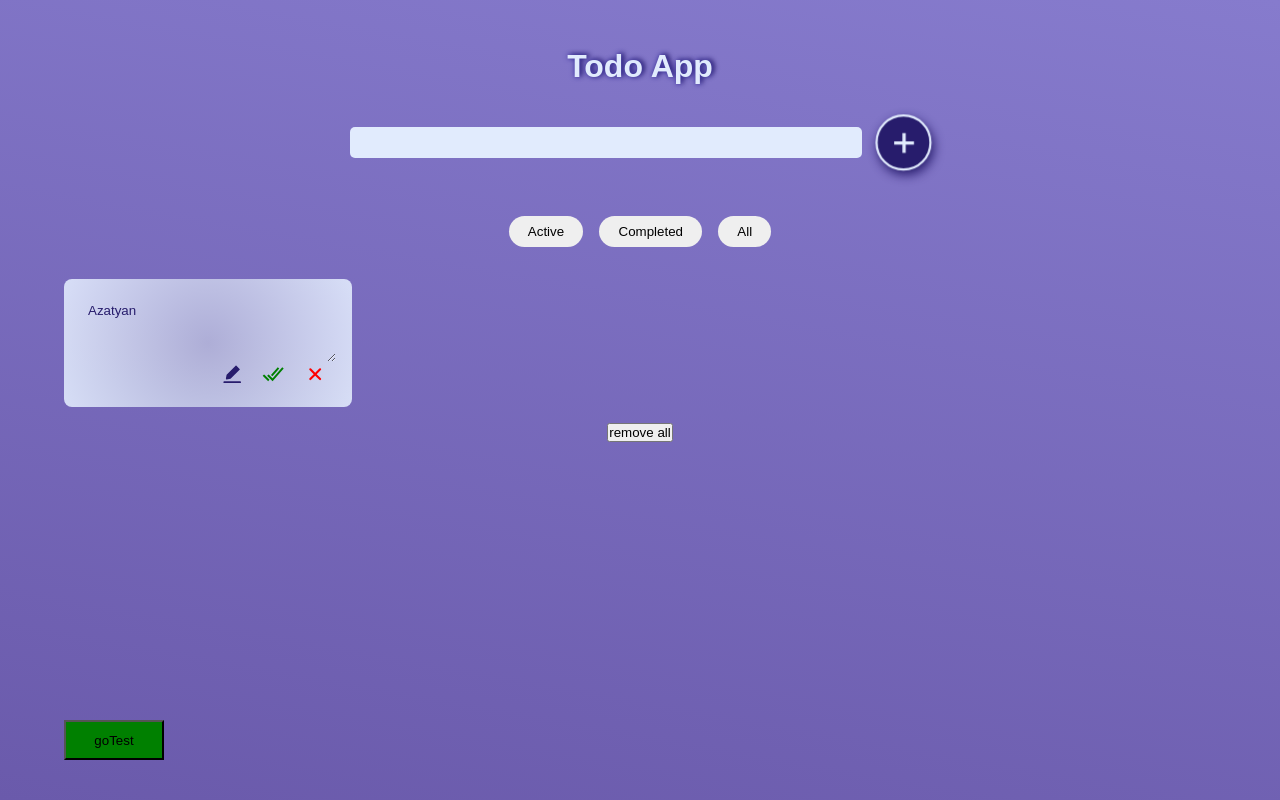
adding two item › add new item and check all length
Type "Heghine" into the element with class "addTodos" at (641, 142), box [350,114,932,170]
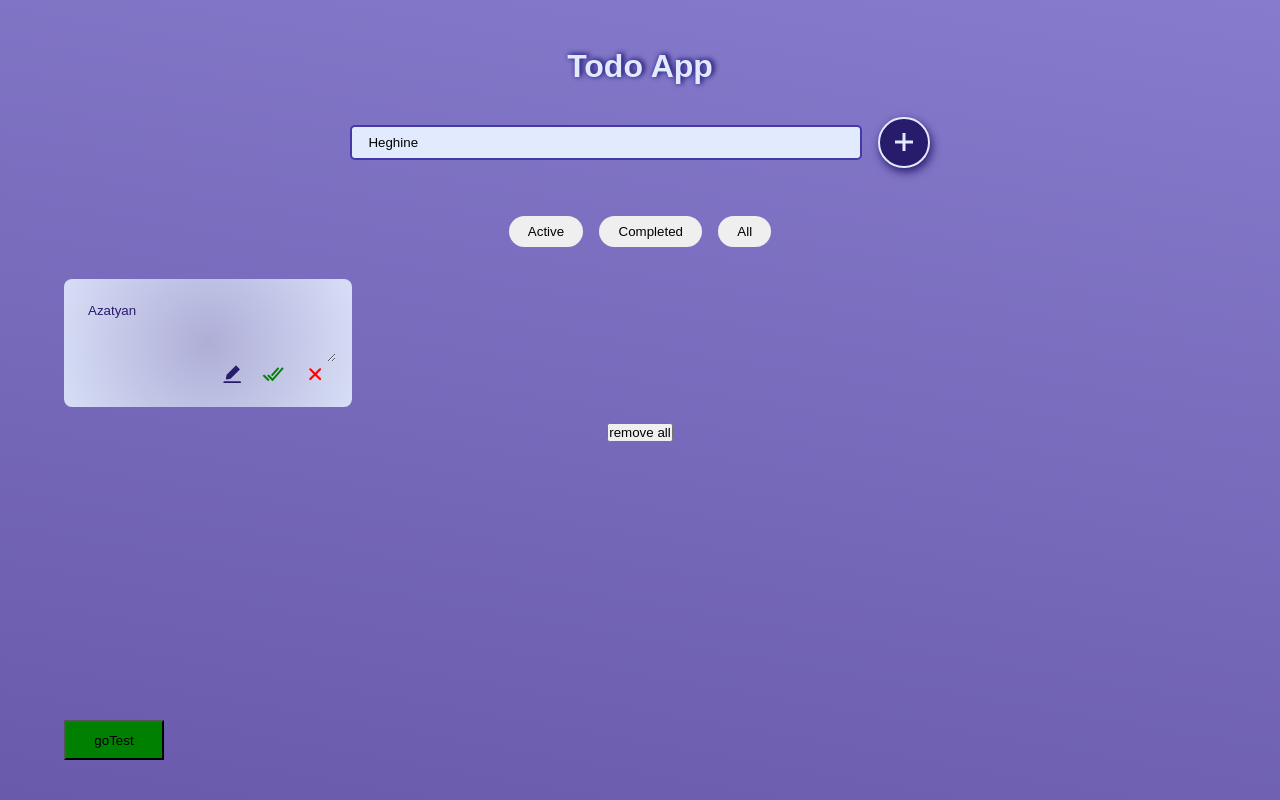
Click the 1st button at (904, 143), box [878,117,929,168]
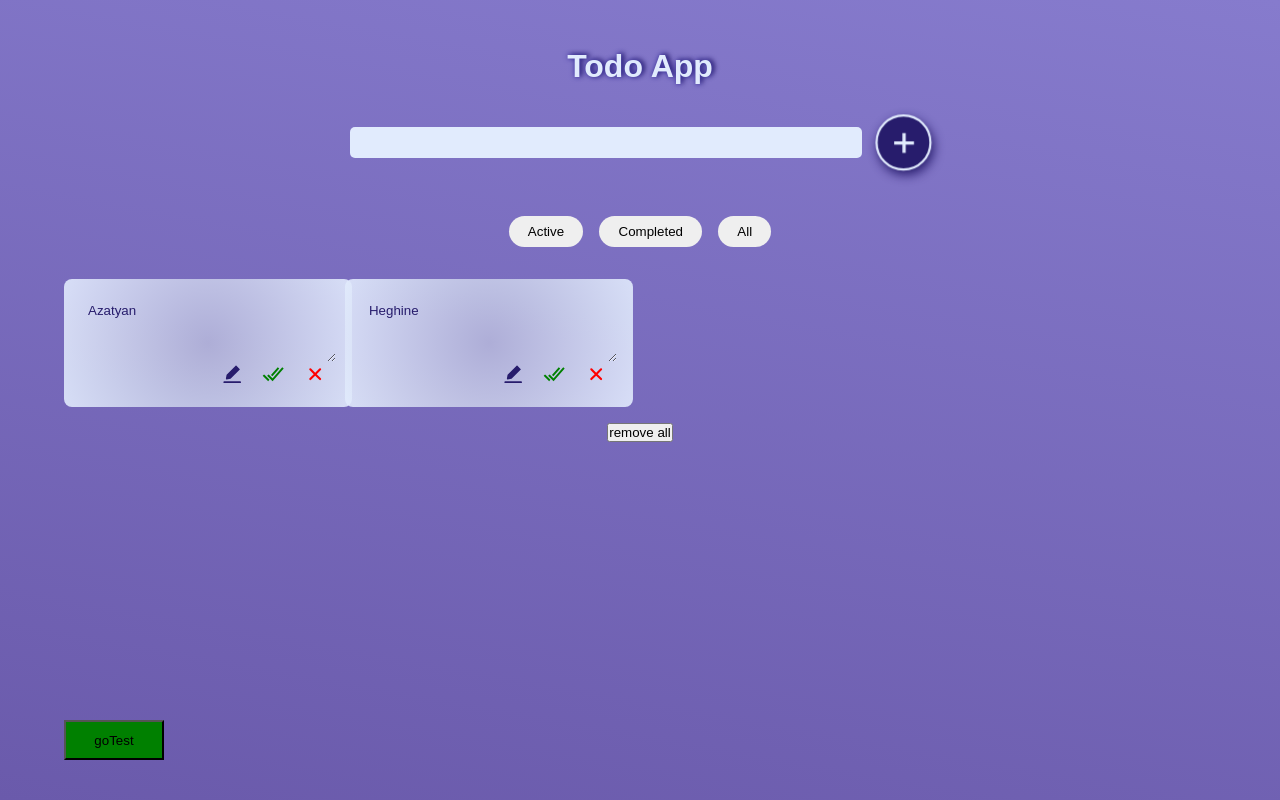
expect the number of list items is 2: met, box [64,279,352,407]; [342,279,630,407]
